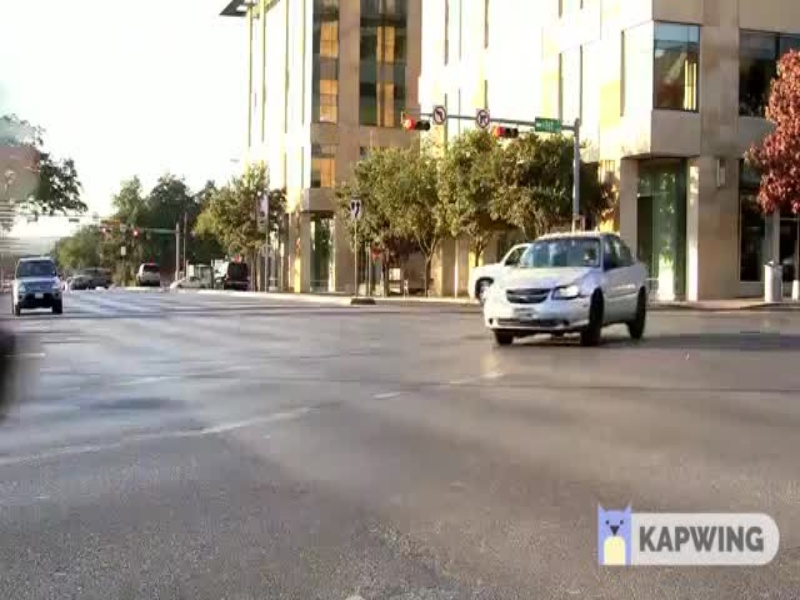car: (467, 225, 662, 374)
suv: (3, 247, 66, 326)
